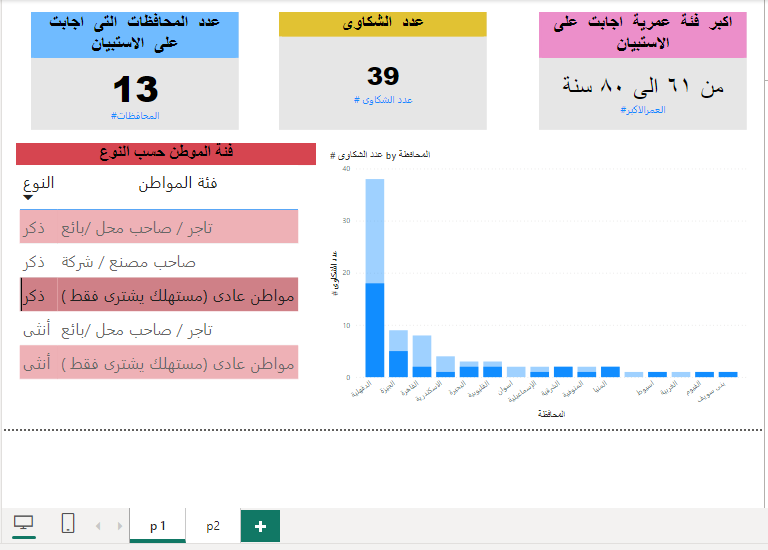

This screenshot's page, from the dashboard's own definition file:
{"tool":"powerbi","page":{"name":"p 1","canvas":[1280,720],"ordinal":0},"visuals":[{"type":"card","title":"اكبر فئة عمرية اجابت على الاستبيان","fields":{"Values":["رؤية مصر 2030 للغش التجارى فى السلع الغذائية و ارتفاع الاسعار.#العمر"]},"box":[902,20.2,349.4,198.2],"z":0},{"type":"card","title":"عدد المحافظات التى اجابت على الاستبيان","fields":{"Values":["رؤية مصر 2030 للغش التجارى فى السلع الغذائية و ارتفاع الاسعار.#المحافظات"]},"box":[48.7,20.2,349.4,198.2],"z":1000},{"type":"card","title":"عدد الشكاوى ","fields":{"Values":["رؤية مصر 2030 للغش التجارى فى السلع الغذائية و ارتفاع الاسعار.# عدد الشكاوى"]},"box":[465.3,20.2,349.4,198.2],"z":2000},{"type":"tableEx","title":"فئة الموطن حسب النوع","fields":{"Values":["رؤية مصر 2030 للغش التجارى فى السلع الغذائية و ارتفاع الاسعار.النوع","رؤية مصر 2030 للغش التجارى فى السلع الغذائية و ارتفاع الاسعار.فئة المواطن"]},"box":[23.5,240.2,503.9,480.4],"z":3000},{"type":"columnChart","fields":{"Category":["رؤية مصر 2030 للغش التجارى فى السلع الغذائية و ارتفاع الاسعار.المحافظة"],"Y":["رؤية مصر 2030 للغش التجارى فى السلع الغذائية و ارتفاع الاسعار.# عدد الشكاوى"]},"box":[545.9,250.3,710.6,460.3],"z":4000}]}

Visuals, with their boxes on the page's 1280x720 design canvas (x1, y1, x2, y2). These are canvas units, not pixel positions in the 768x550 screenshot, which may show the page scaled, cropped or inside an application window:
"اكبر فئة عمرية اجابت على الاستبيان" card: 902 20 1251 218
"عدد المحافظات التى اجابت على الاستبيان" card: 49 20 398 218
"عدد الشكاوى " card: 465 20 815 218
"فئة الموطن حسب النوع" tableEx: 24 240 527 721
columnChart - رؤية مصر 2030 للغش التجارى فى السلع الغذائية و ارتفاع الاسعار.المحافظة x رؤية مصر 2030 للغش التجارى فى السلع الغذائية و ارتفاع الاسعار.# عدد الشكاوى: 546 250 1256 711
